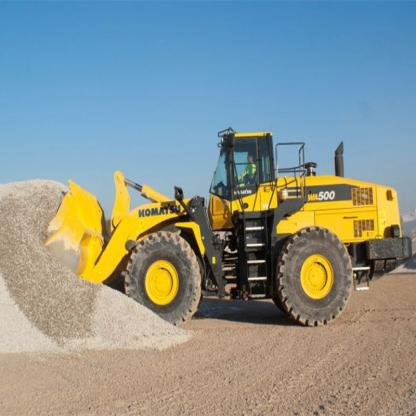bull_dozer/loader/grader: (38, 110, 415, 346)
